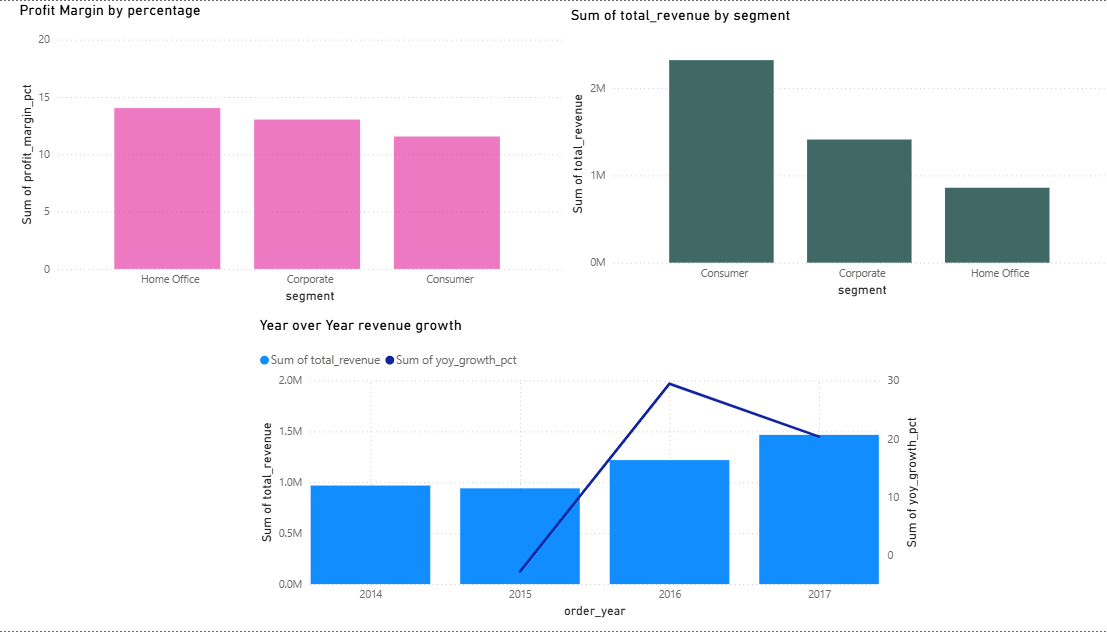

Layout of this report page (visuals, bound fields, positions):
{"tool":"powerbi","page":{"name":"Trends","canvas":[1280,720],"ordinal":2},"visuals":[{"type":"clusteredColumnChart","title":"Profit Margin by percentage","fields":{"Y":["Sum(customer_segments.profit_margin_pct)"],"Category":["customer_segments.segment"]},"box":[22.9,0,630,350],"z":0},{"type":"lineClusteredColumnComboChart","title":"Year over Year revenue growth","fields":{"Category":["yoy_growth.order_year"],"Y":["Sum(yoy_growth.total_revenue)"],"Y2":["Sum(yoy_growth.yoy_growth_pct)"]},"box":[297.8,359.5,763,349.9],"z":1000},{"type":"clusteredColumnChart","fields":{"Category":["customer_segments.segment"],"Y":["Sum(customer_segments.total_revenue)"]},"box":[652.9,5.7,627.1,337.1],"z":2000}]}

Visuals, with their boxes in screenshot pixels (x1, y1, x2, y2), scaled from the page's 1280x720 canvas onto the 1107x632 screenshot:
"Profit Margin by percentage" clusteredColumnChart: bbox(20, 0, 565, 307)
"Year over Year revenue growth" lineClusteredColumnComboChart: bbox(258, 316, 917, 623)
clusteredColumnChart - customer_segments.segment x Sum(customer_segments.total_revenue): bbox(565, 5, 1106, 301)
